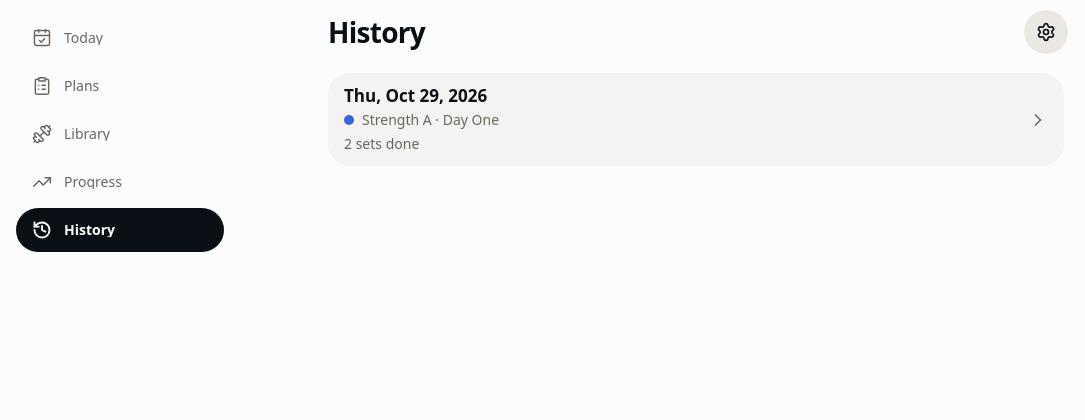
list, detail with done/skipped sets, and name snapshot
The width and height of the screenshot is (1085, 420).
Expected: the text "Strength A · Day One" is shown, [362, 110, 499, 130]
Expected: the text "2 sets done" is shown, [344, 134, 419, 153]
Click the link "Thu, Oct 29, 2026 Strength A · Day One 2 sets done" at coordinates (416, 96), box [328, 73, 1064, 166]
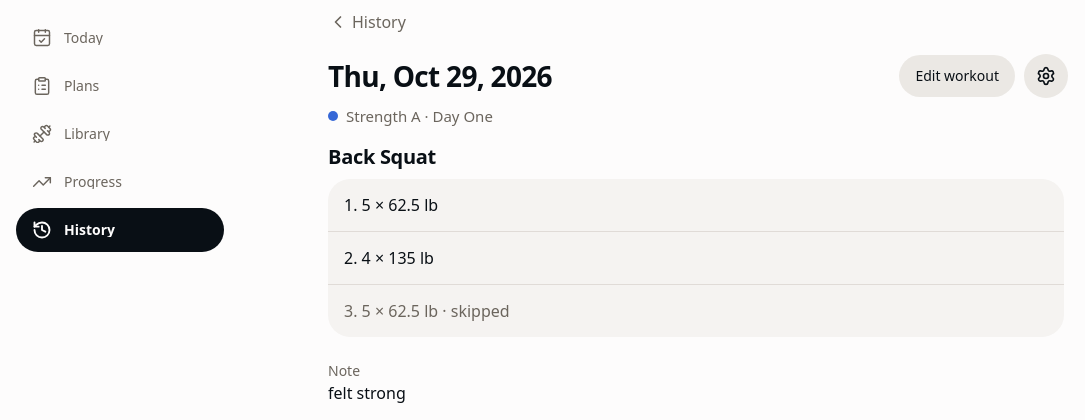
Expected: the heading "Back Squat" is shown, [328, 142, 436, 170]
Expected: the text "1. 5 × 62.5 lb" is shown, [344, 194, 438, 216]
Expected: the text "2. 4 × 135 lb" is shown, [344, 246, 434, 268]
